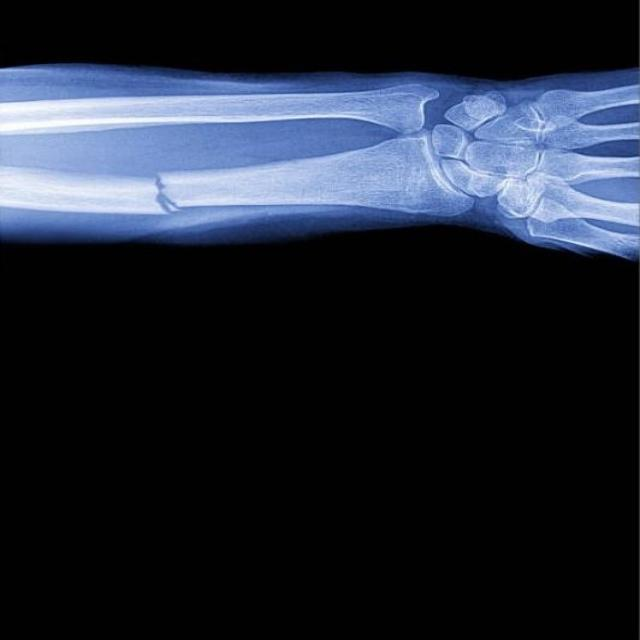bone: (134, 172, 184, 216)
